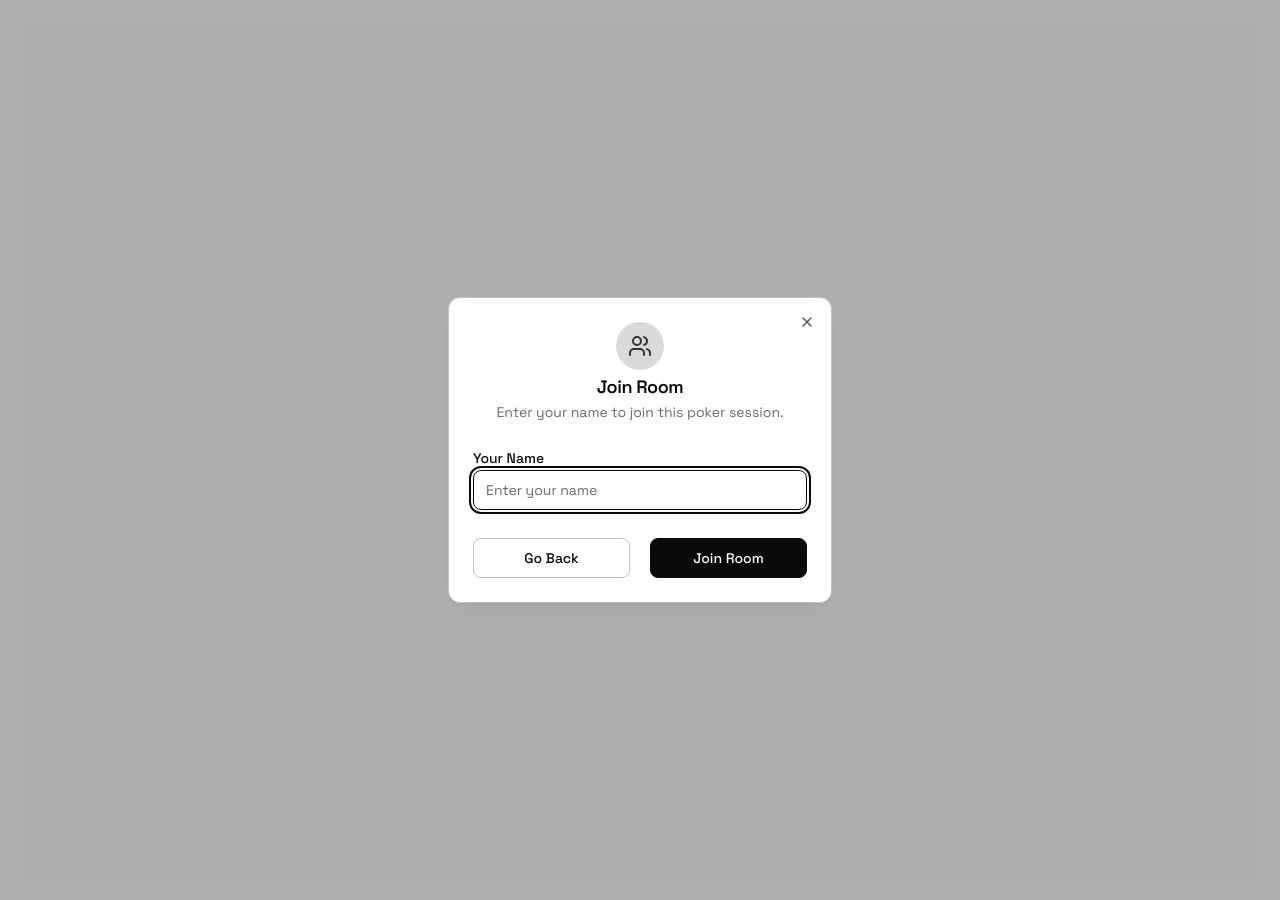
Test: JoinRoomDialog › should show validation error for empty name
The image size is (1280, 900).
Step 1. Click the button "Join Room" → x=728, y=558, box [650, 538, 807, 578]
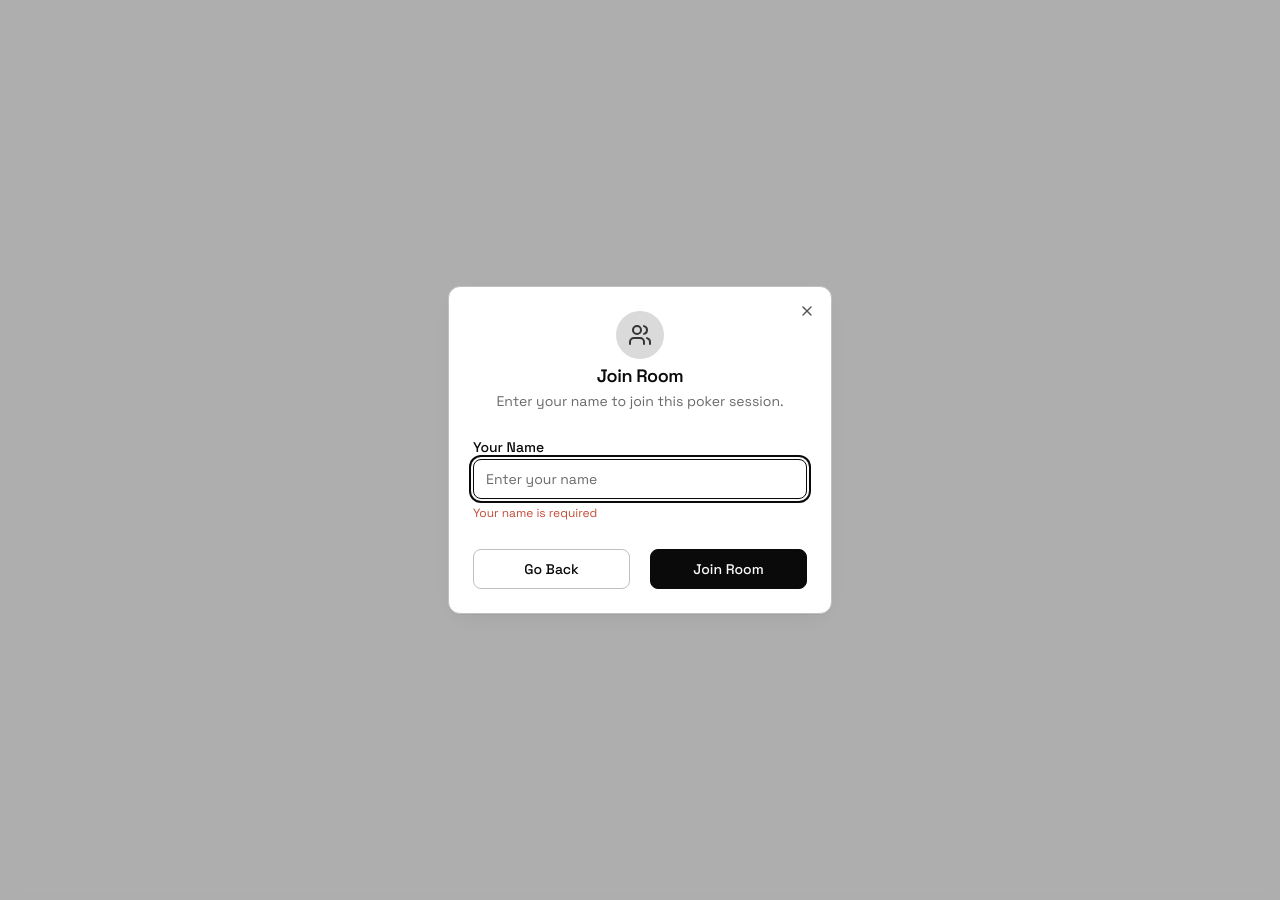
Expected: the message "Your name is required" is shown, [473, 505, 597, 521]
